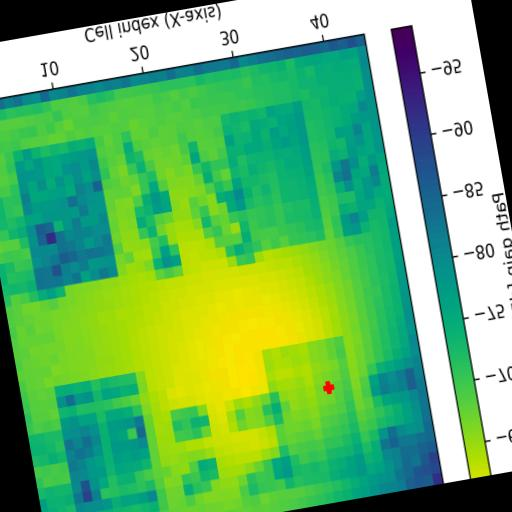Concrete: (261, 336, 368, 488)
Glass: (54, 370, 161, 512)
Metal: (220, 98, 326, 256)
Wood: (12, 138, 118, 291)
